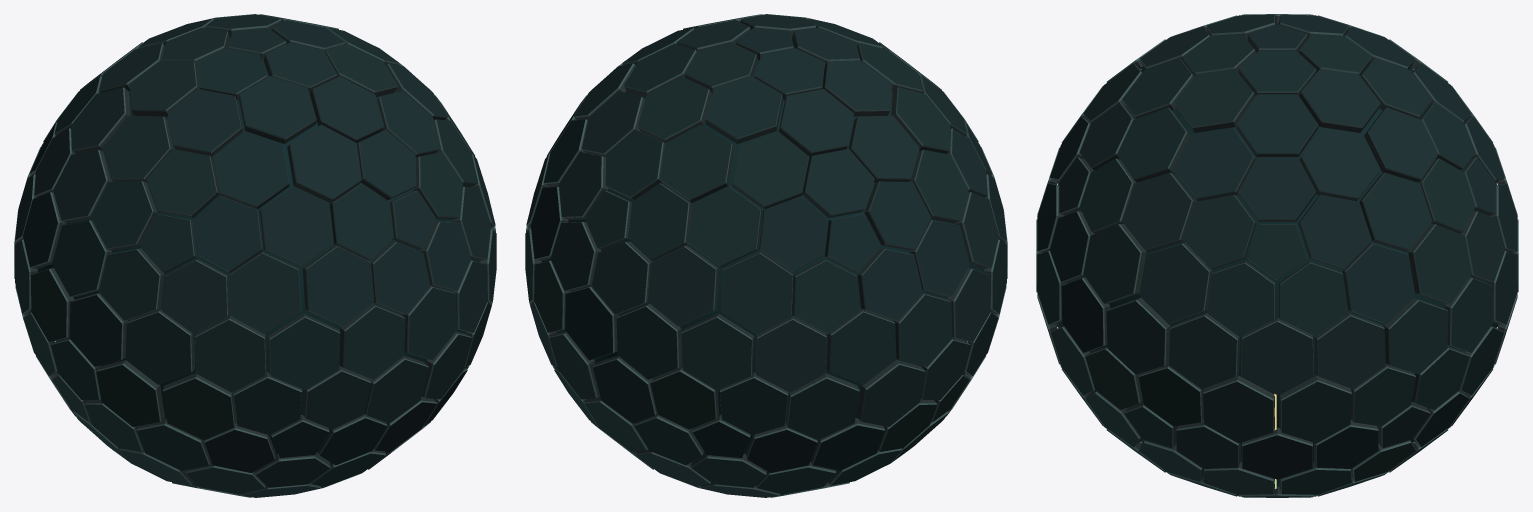
Rendered from first-light-planet.glb.
The picture shows the model from 3 angles, left to right: view 1: azimuth 30°, elevation 25°; view 2: azimuth 150°, elevation 25°; view 3: azimuth 270°, elevation 25°; orthographic projection.
Visible parts, largest first — view 1: Tile_0126, Tile_0076, Tile_0112, Tile_0128, Tile_0127, Tile_0058, Tile_0113, Tile_0138, Tile_0111, Tile_0077, Tile_0059, Tile_0049 (+63 smaller); view 2: Tile_0122, Tile_0082, Tile_0107, Tile_0120, Tile_0121, Tile_0061, Tile_0106, Tile_0135, Tile_0105, Tile_0081, Tile_0060, Tile_0070 (+63 smaller); view 3: Tile_0144, Tile_0117, Tile_0131, Tile_0103, Tile_0116, Tile_0043, Tile_0046, Tile_0073, Tile_0085, Tile_0091, Tile_0072, Tile_0086 (+60 smaller).
Boxes of the visible parts, <box> form: Tile_0126: <box>228,251,301,333</box>; Tile_0076: <box>259,186,333,267</box>; Tile_0112: <box>212,131,289,209</box>; Tile_0128: <box>302,245,374,326</box>; Tile_0127: <box>267,313,340,390</box>; Tile_0058: <box>195,316,266,392</box>; Tile_0113: <box>287,124,361,202</box>; Tile_0138: <box>125,308,195,384</box>; Tile_0111: <box>238,76,316,143</box>; Tile_0077: <box>194,196,262,272</box>; Tile_0059: <box>161,259,229,333</box>; Tile_0049: <box>339,303,405,379</box>; Tile_0122: <box>720,251,793,333</box>; Tile_0082: <box>688,186,762,267</box>; Tile_0107: <box>732,131,809,209</box>; Tile_0120: <box>647,245,719,326</box>; Tile_0121: <box>681,313,754,390</box>; Tile_0061: <box>755,316,826,392</box>; Tile_0106: <box>660,124,734,202</box>; Tile_0135: <box>826,308,896,384</box>; Tile_0105: <box>705,76,783,143</box>; Tile_0081: <box>759,196,827,272</box>; Tile_0060: <box>792,259,860,333</box>; Tile_0070: <box>616,303,682,379</box>; Tile_0144: <box>1241,317,1313,394</box>; Tile_0117: <box>1342,243,1414,323</box>; Tile_0131: <box>1140,243,1212,323</box>; Tile_0103: <box>1299,127,1380,201</box>; Tile_0116: <box>1174,127,1255,201</box>; Tile_0043: <box>1169,312,1239,389</box>; Tile_0046: <box>1315,312,1385,389</box>; Tile_0073: <box>1122,172,1195,251</box>; Tile_0085: <box>1359,172,1432,251</box>; Tile_0091: <box>1236,94,1318,157</box>; Tile_0072: <box>1183,195,1256,269</box>; Tile_0086: <box>1298,195,1371,269</box>.
Bounding box in the file's own units: 3.54 × 3.55 × 3.54.
